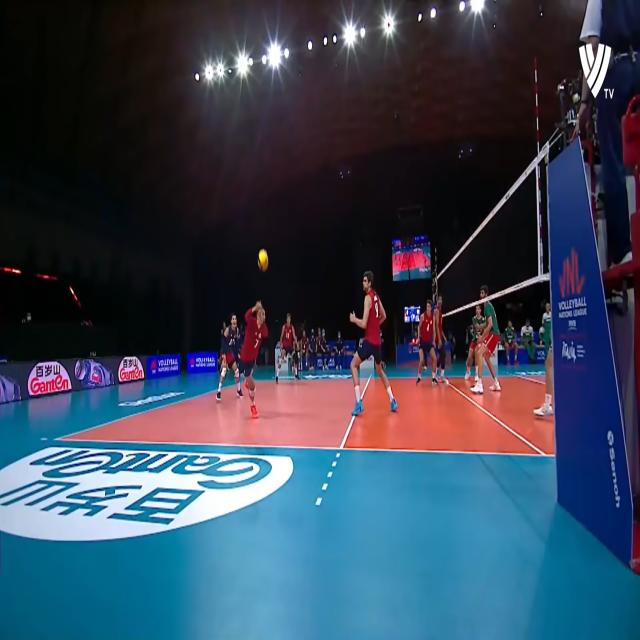player: (350, 264, 400, 419), (213, 306, 246, 405), (241, 297, 265, 422), (476, 284, 501, 402), (411, 294, 435, 390), (275, 310, 303, 389), (432, 292, 453, 385), (470, 304, 485, 385)
